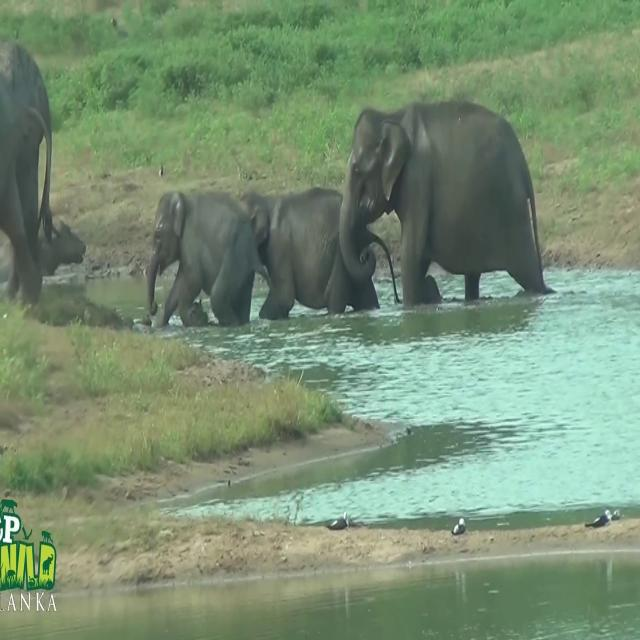Elephant: (337, 99, 556, 308), (238, 186, 398, 321), (146, 188, 270, 329), (0, 37, 53, 307)
